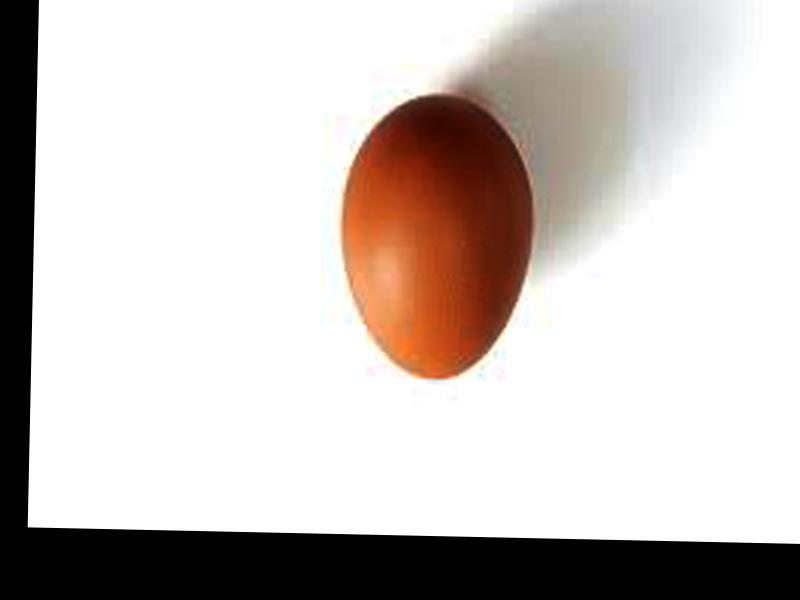Eggs: (341, 94, 533, 383)
